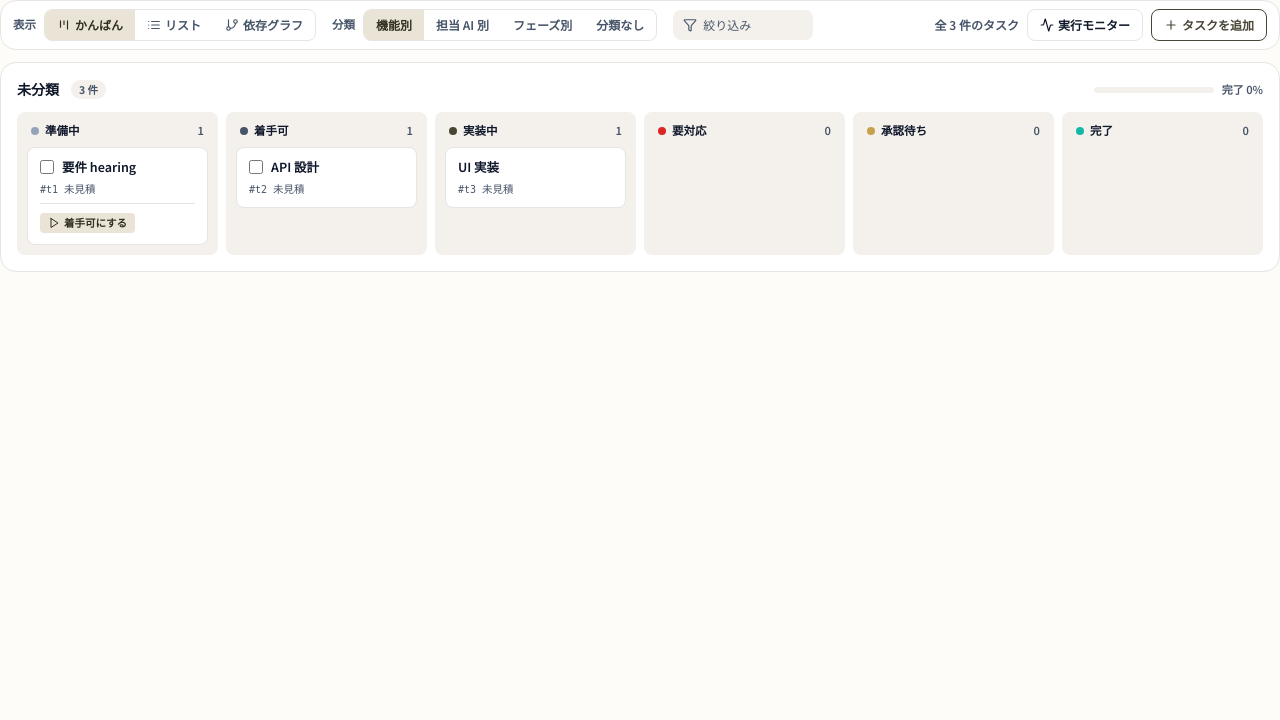
Test: S-I01 タスク作成の依存と受入条件 (GAP-303) › 依存が空のまま作ろうとすると「並列に着手される」と警告が出る
Click the button "タスクを追加" at x=1209, y=25, box [1151,9,1267,41]
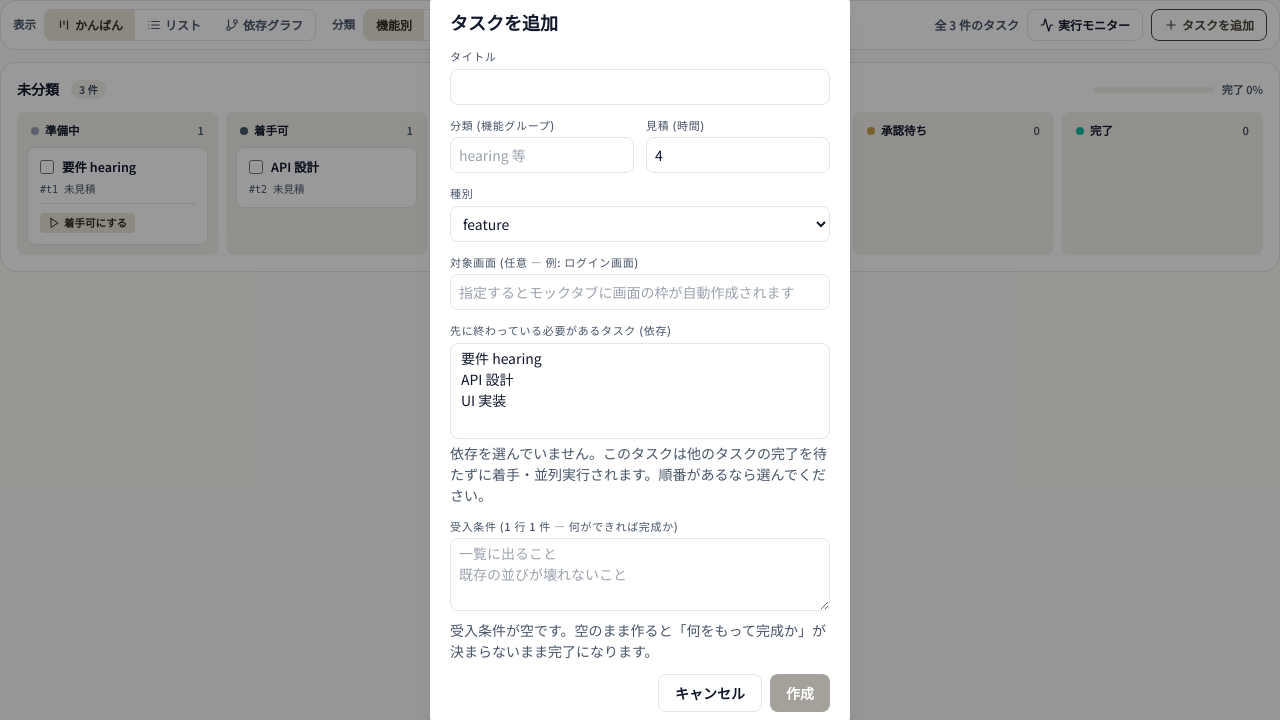
Now the text "依存を選んでいません。このタスクは他のタスクの完了を待たずに着手・並列実行されます。順番があるなら選んでください。" is shown, box [450,442,830,506]
Now the text "受入条件が空です。空のまま作ると「何をもって完成か」が決まらないまま完了になります。" is shown, box [450,620,830,662]
